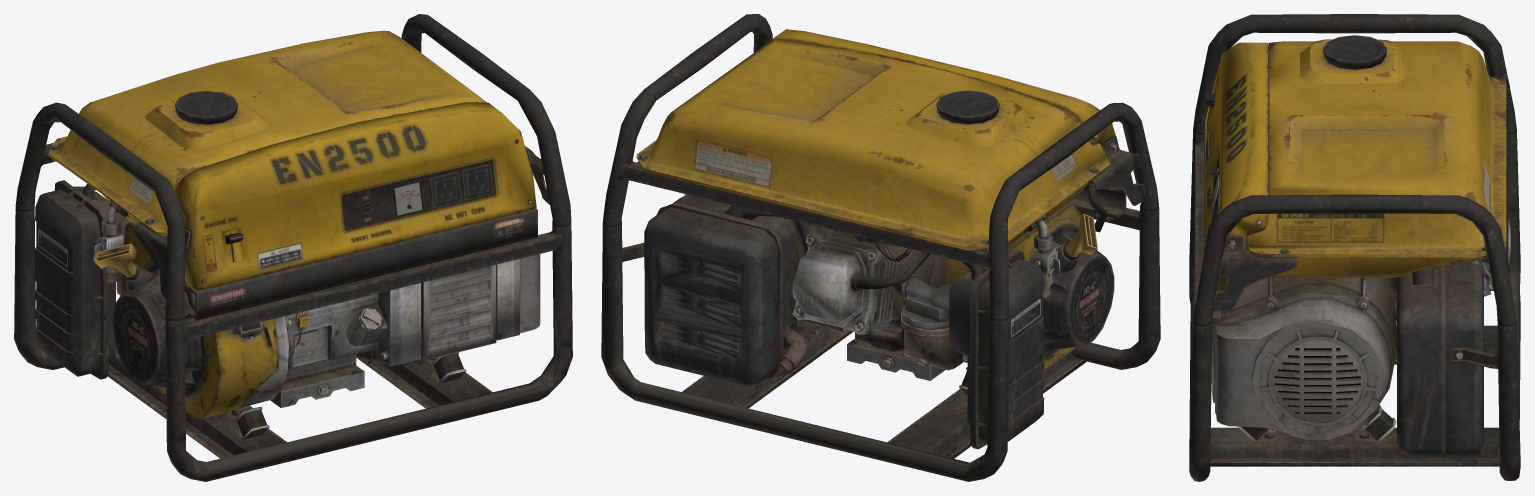
Rendered from portable_generator.gltf.
The picture shows the model from 3 angles, left to right: view 1: azimuth 30°, elevation 25°; view 2: azimuth 150°, elevation 25°; view 3: azimuth 270°, elevation 25°; orthographic projection.
Visible parts, largest first — view 1: portable_generator; view 2: portable_generator; view 3: portable_generator.
Part boxes in pixels (box(x1,y1,x2,y2)): portable_generator: box(14, 14, 572, 481); portable_generator: box(601, 14, 1160, 481); portable_generator: box(1189, 14, 1520, 481).
Size of the model in its own units: 0.8169 by 0.5752 by 0.564.
2 materials, 2 textured.
